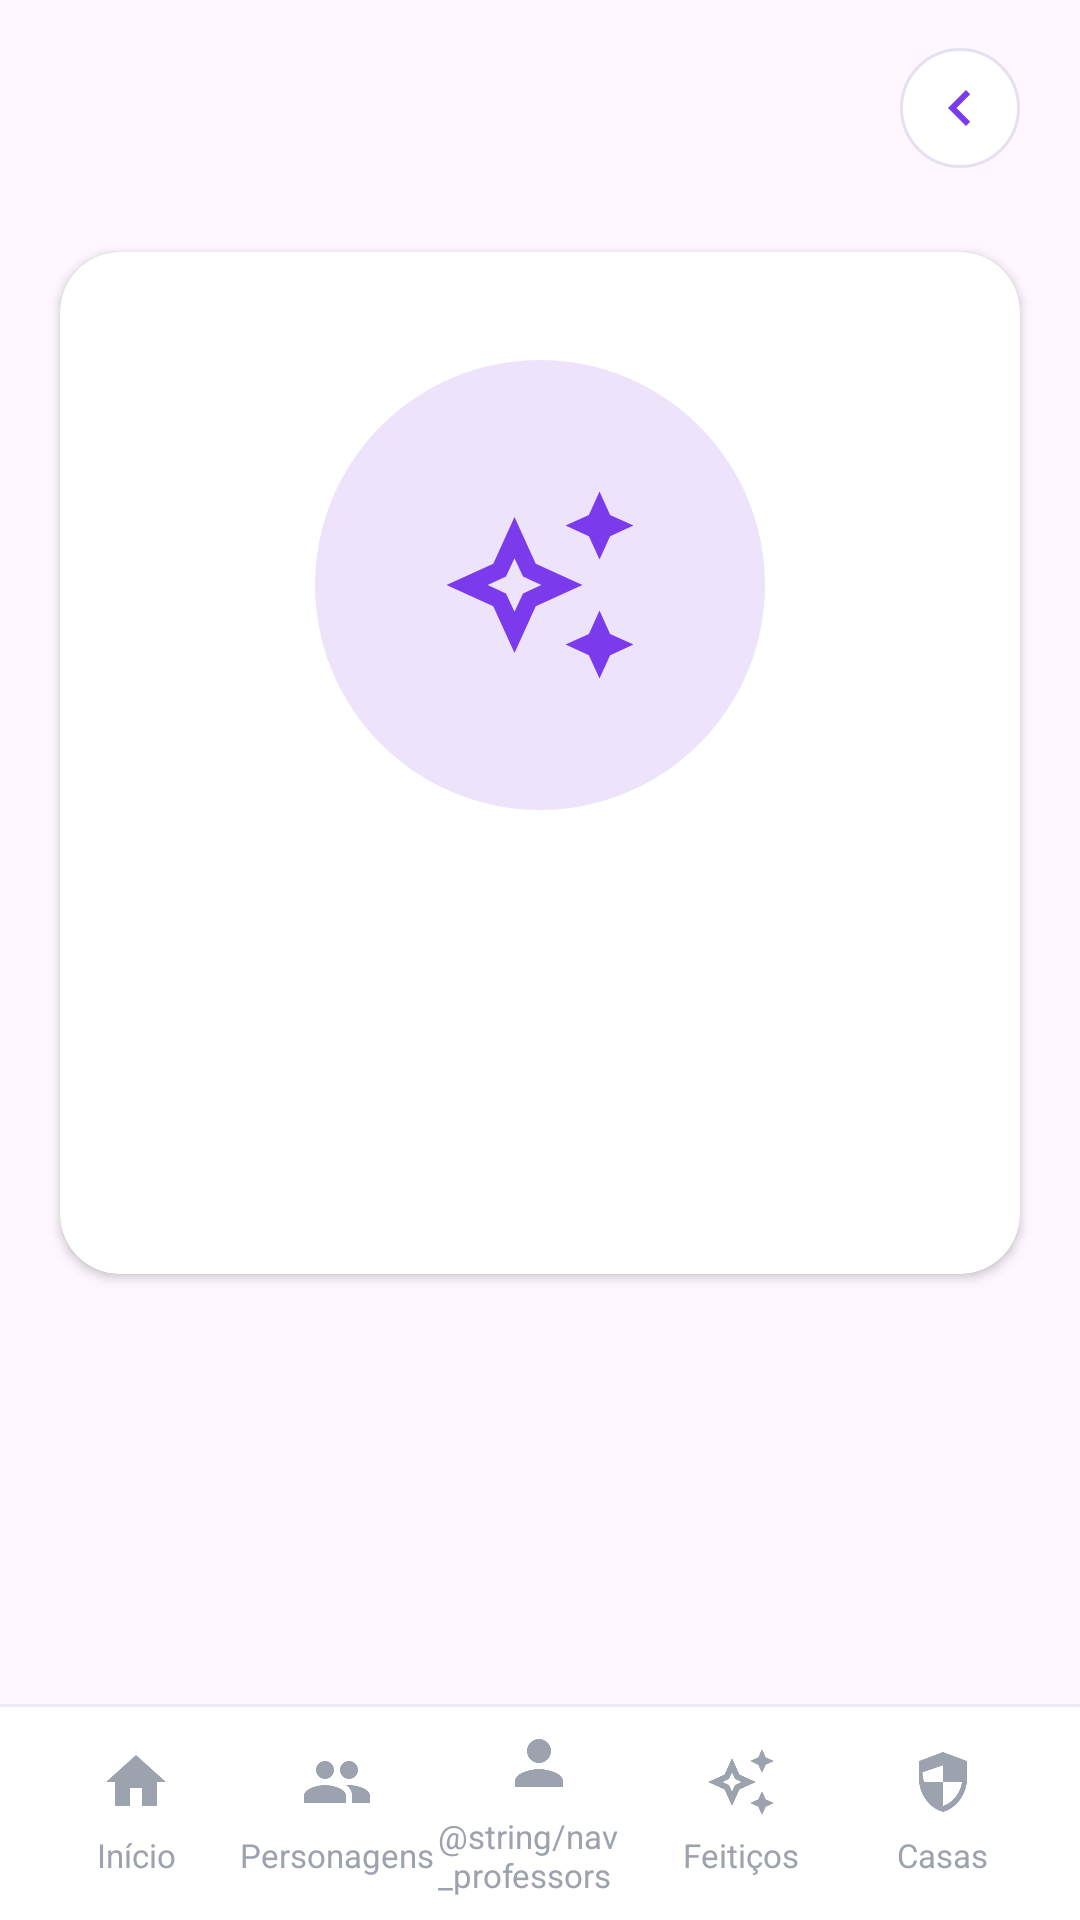

Locate icon controls on the screen. Image size 1080px×1920px, boxes as box=[x1, y1, x2, y2].
spells: box=[447, 492, 633, 678]
Voltar: box=[900, 48, 1020, 168]
